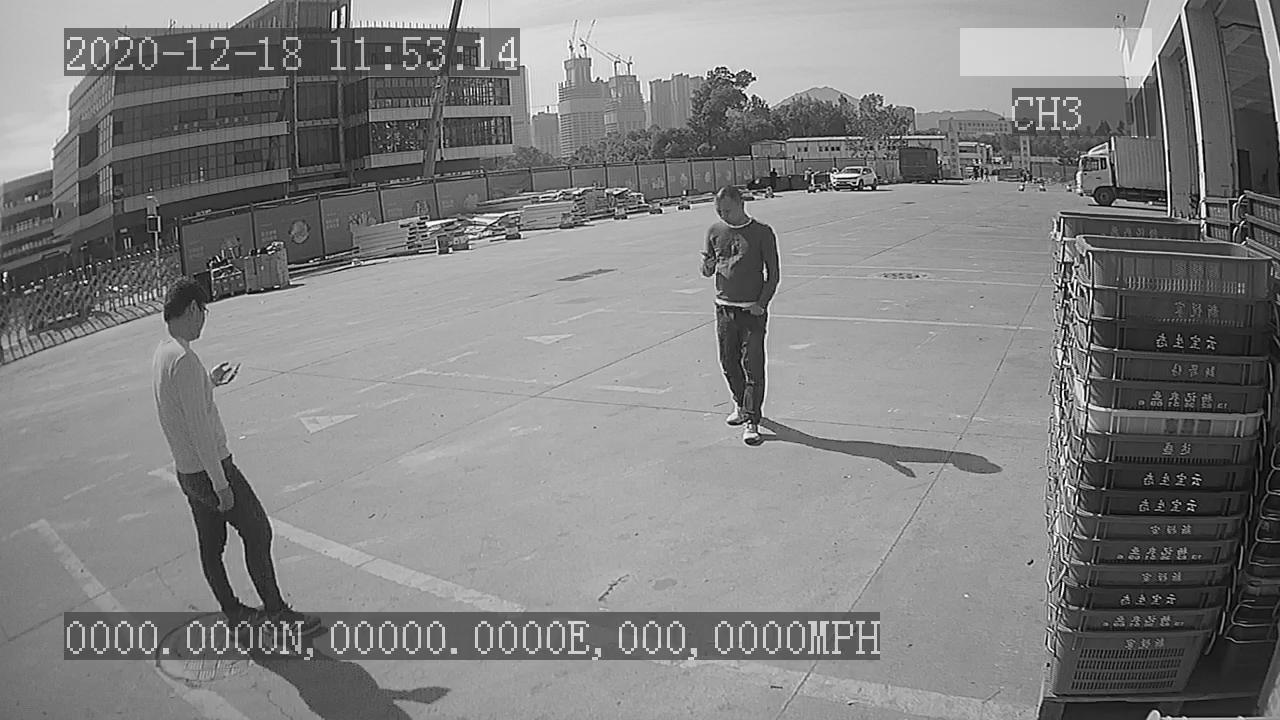person: (684, 177, 792, 456)
